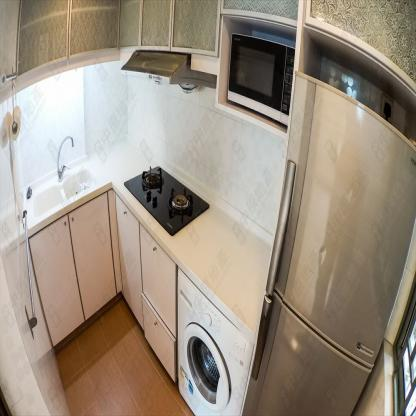Cupboard: (31, 188, 177, 382), (17, 0, 223, 78)
Exhaust Hood: (119, 48, 217, 93)
Faucet: (56, 134, 77, 181)
Fridge: (241, 70, 414, 415)
Microwave: (229, 33, 294, 128)
Sink: (31, 169, 97, 216)
Stove: (124, 165, 212, 235)
Washing Machine: (176, 265, 254, 415)
